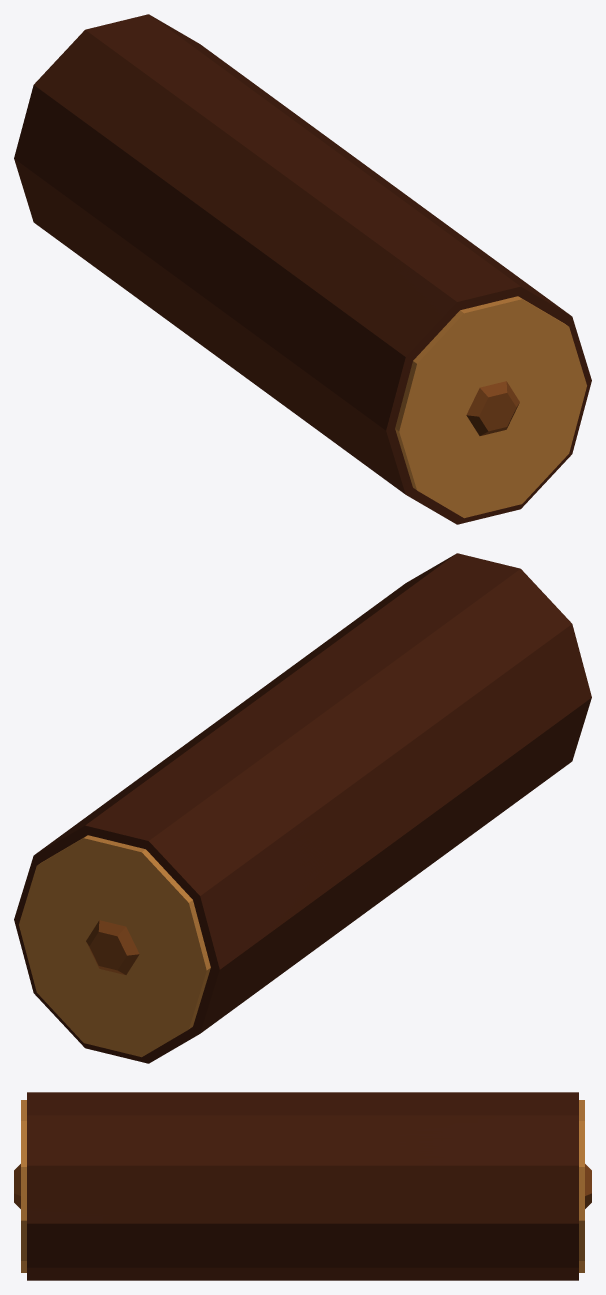
The model's file is pile-wood-1.obj.
3 renders of one model, top to bottom at view 1: azimuth 30°, elevation 25°; view 2: azimuth 150°, elevation 25°; view 3: azimuth 270°, elevation 25°, orthographic. The views are drawn at different scales.
Parts seen in each view (by area): view 1: pile-wood-1; view 2: pile-wood-1; view 3: pile-wood-1.
Boxes of the visible parts, bbox=[...] form: pile-wood-1: bbox=[14, 14, 591, 524]; pile-wood-1: bbox=[14, 553, 591, 1063]; pile-wood-1: bbox=[14, 1092, 591, 1280].
Bounding box in the file's own units: 0.23 × 0.2378 × 0.754.
1 material, 1 textured.
